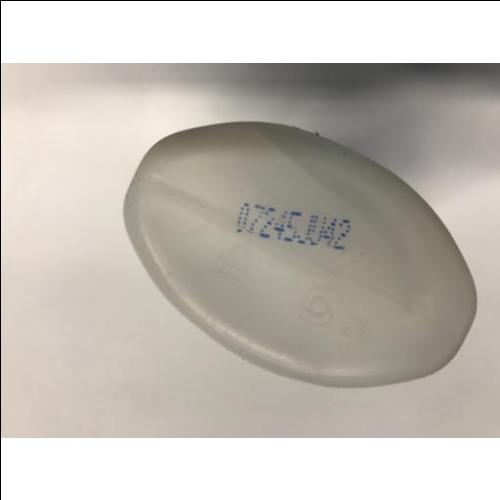plastic: (123, 124, 479, 387)
